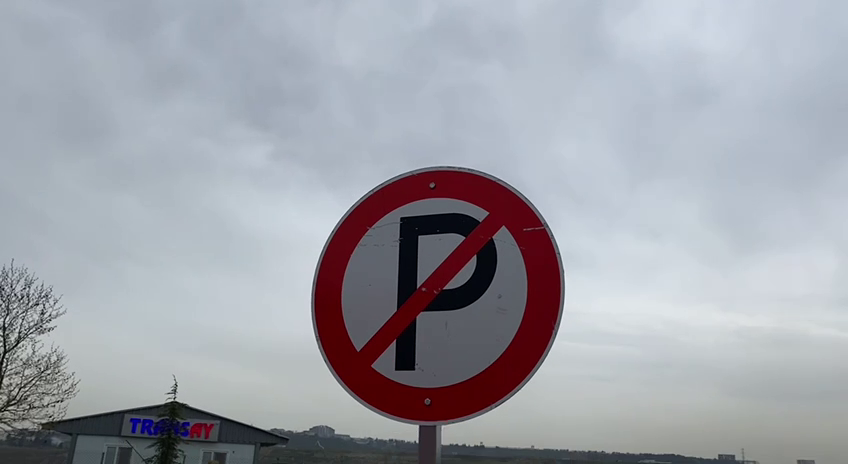noparking: (301, 160, 571, 429)
